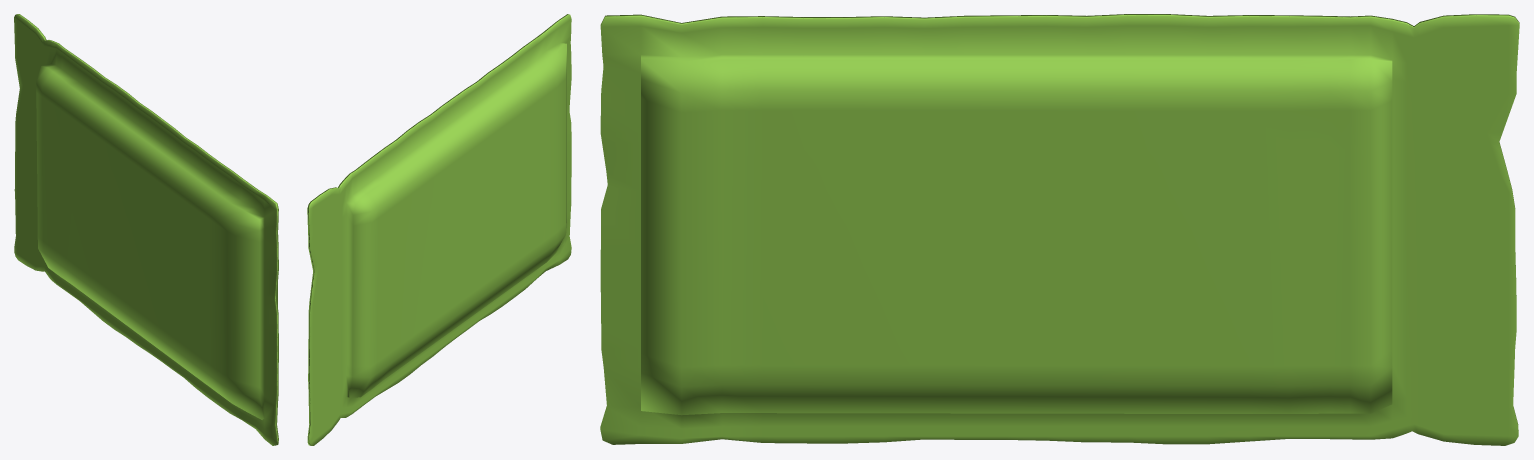
Rendered from Bandage_LowRes.fbx.
3 views of the same model, side by side, from view 1: azimuth 30°, elevation 25°; view 2: azimuth 150°, elevation 25°; view 3: azimuth 270°, elevation 25° (orthographic). The views are drawn at different scales.
Visible parts, largest first — view 1: Bandage_low; view 2: Bandage_low; view 3: Bandage_low.
Part boxes in pixels (<box>): Bandage_low: <box>14,14,278,445</box>; Bandage_low: <box>307,14,571,445</box>; Bandage_low: <box>600,14,1519,445</box>.
Bounding box in the file's own units: 86.06 × 445 × 862.
